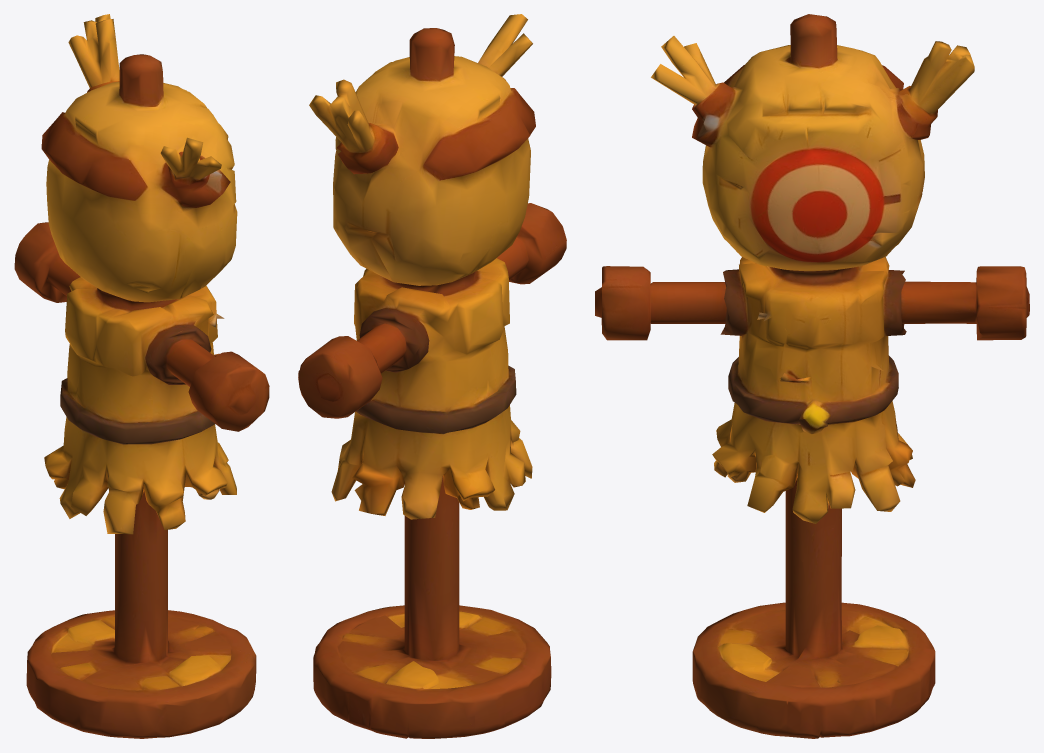
The model's file is camp_dummy-D_Ps_GRm.glb.
The picture shows the model from 3 angles, left to right: view 1: azimuth 30°, elevation 25°; view 2: azimuth 150°, elevation 25°; view 3: azimuth 270°, elevation 25°; orthographic projection. The views are drawn at different scales.
Parts seen in each view (by area): view 1: tripo_node_d2255ae1-2fc4-4348-b2a1-deb597afefbb; view 2: tripo_node_d2255ae1-2fc4-4348-b2a1-deb597afefbb; view 3: tripo_node_d2255ae1-2fc4-4348-b2a1-deb597afefbb.
Boxes of the visible parts, x1=… form: tripo_node_d2255ae1-2fc4-4348-b2a1-deb597afefbb: x1=14, y1=14, x2=269, y2=738; tripo_node_d2255ae1-2fc4-4348-b2a1-deb597afefbb: x1=298, y1=14, x2=566, y2=738; tripo_node_d2255ae1-2fc4-4348-b2a1-deb597afefbb: x1=595, y1=14, x2=1029, y2=738.
Size of the model in its own units: 0.3245 by 1 by 0.5834.
1 material, 1 textured.
